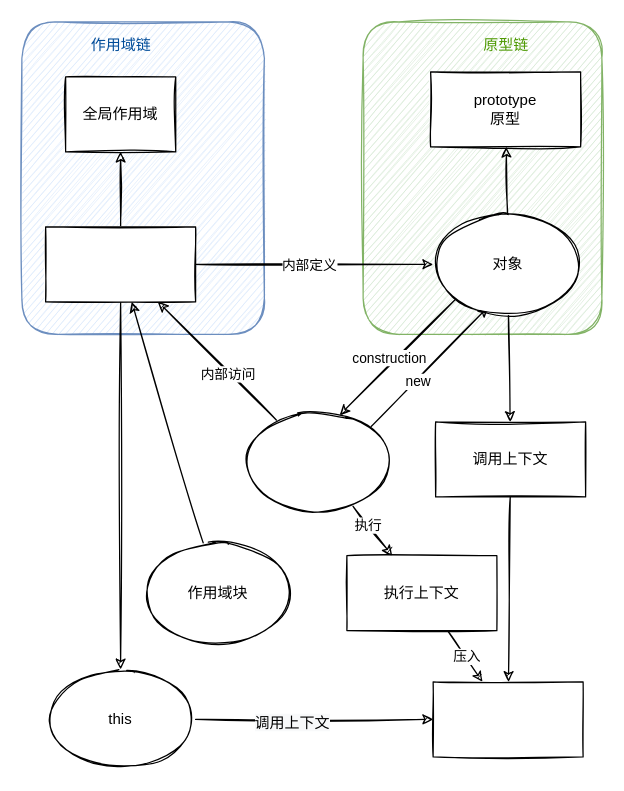
The diagram is 624 pixels wide and 791 high, and some of its shapes have lost their labels. The shapes that lost their labels are listed below. From the top down, each one's box as (x1, y1, x2, y2) in pixels, then its label:
(44, 226, 196, 302): Scope 局部作用域
(242, 411, 393, 512): 函数
(432, 681, 583, 757): 调用栈
